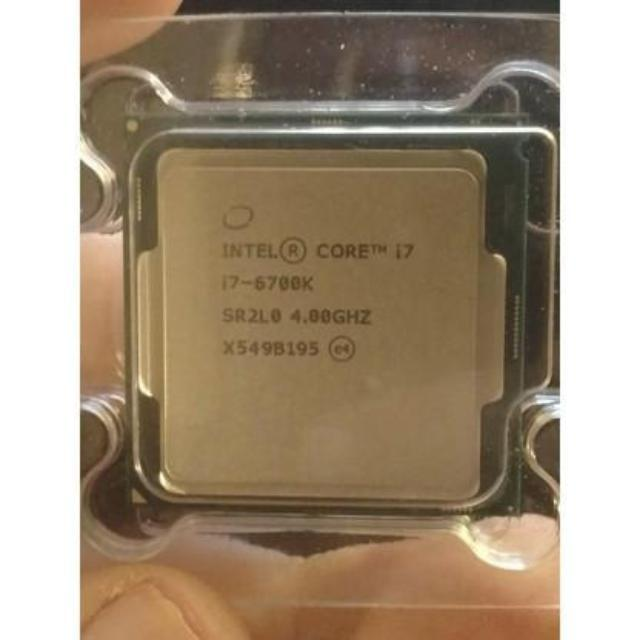CPU: (126, 116, 520, 516)
